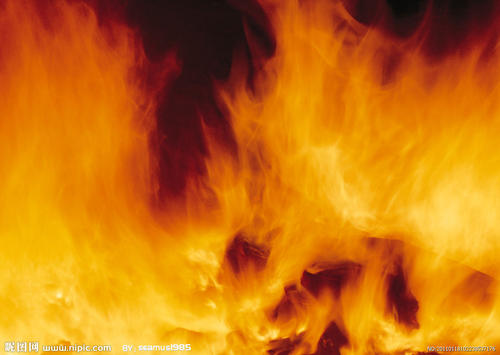fire: (11, 32, 500, 221)
